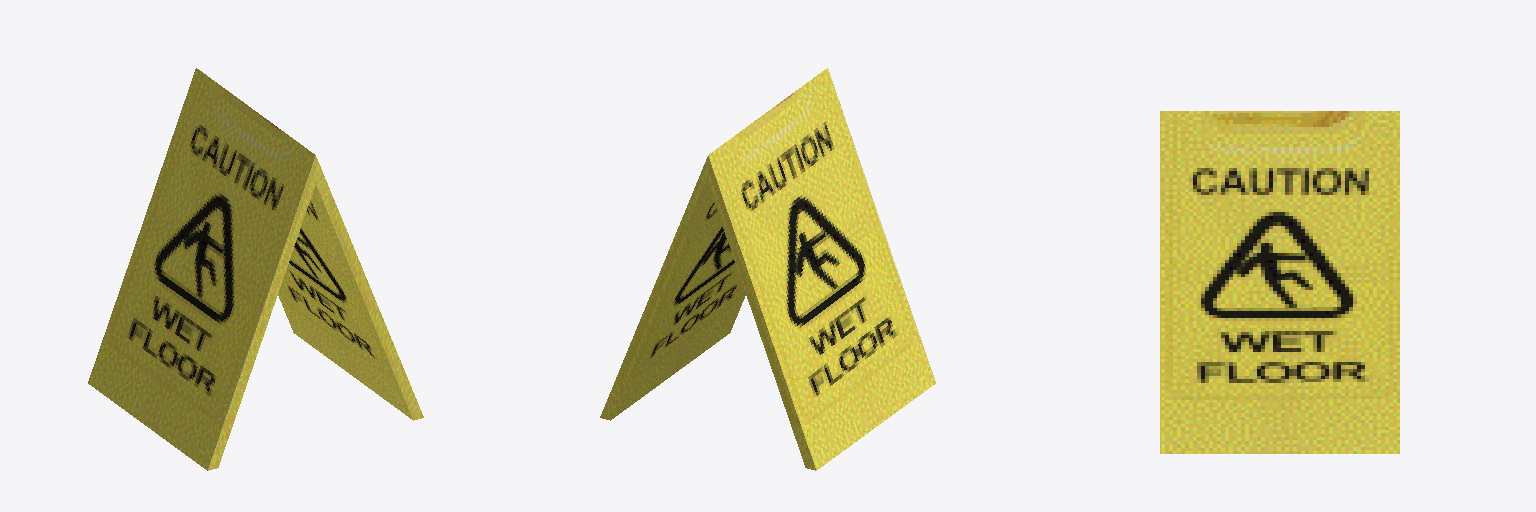
3 views of the same model, side by side, from view 1: azimuth 30°, elevation 25°; view 2: azimuth 150°, elevation 25°; view 3: azimuth 270°, elevation 25° (orthographic).
Visible parts, largest first — view 1: Wet_Floor_Sign; view 2: Wet_Floor_Sign; view 3: Wet_Floor_Sign.
Boxes of the visible parts, x1,y1,x2,y2 form: Wet_Floor_Sign: [88, 68, 423, 470]; Wet_Floor_Sign: [600, 68, 935, 470]; Wet_Floor_Sign: [1160, 111, 1399, 453].
Bounding box in the file's own units: 1.33 × 1.69 × 1.27.
1 materials, 1 textured.